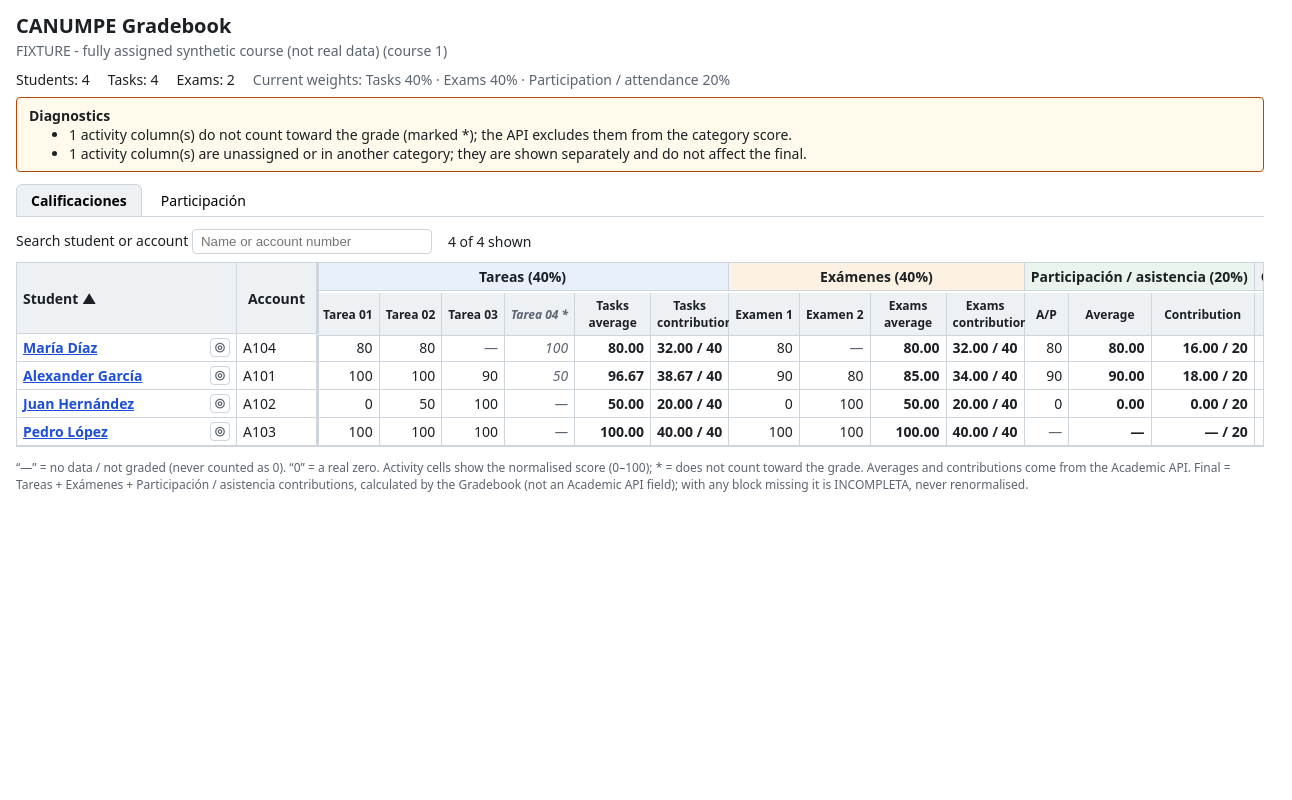
Test: Participación tab › clears the captured controls after a successful capture
Expected: the table is shown, [17, 263, 1264, 446]
Click the tab "Participación" at (203,200), box [146, 184, 261, 216]
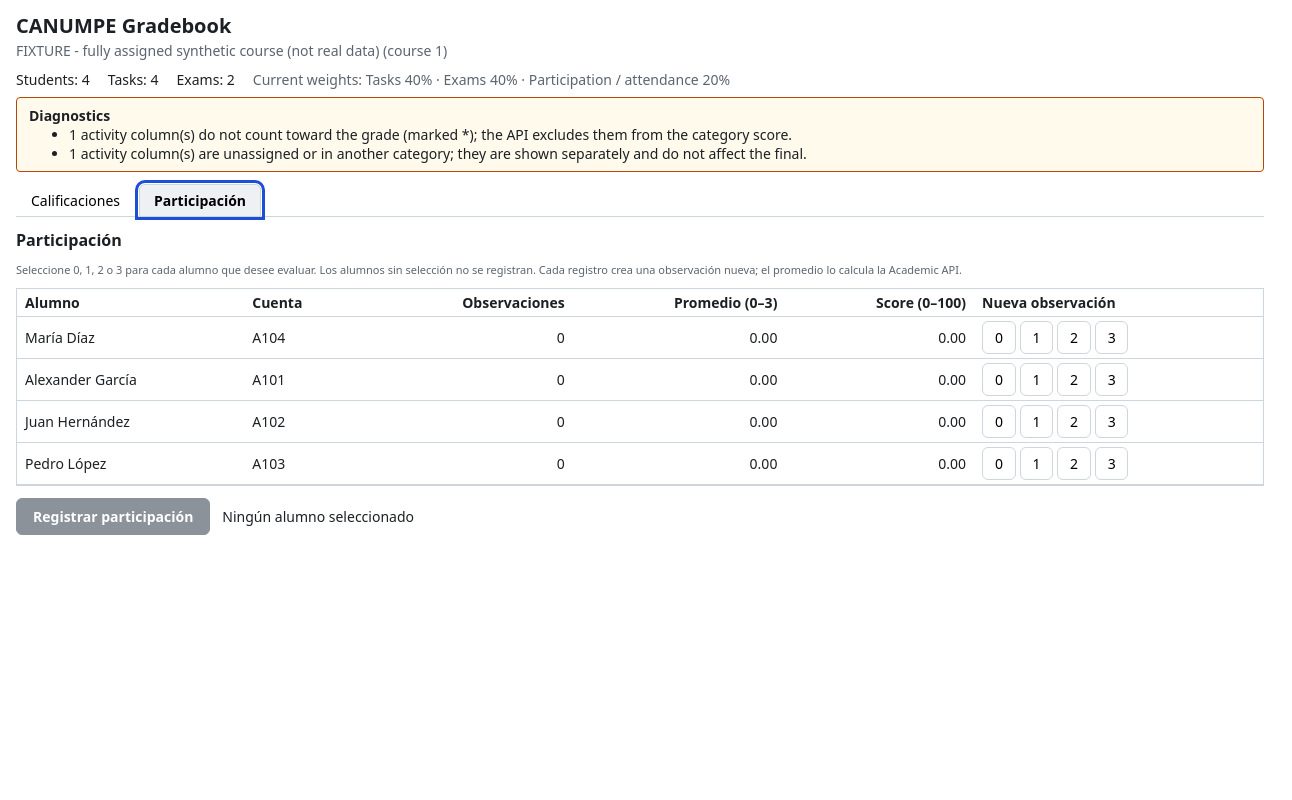
Click the radio button labelled "2" in the row of "Alexander García" at (1074,380), box [1057, 363, 1091, 396]
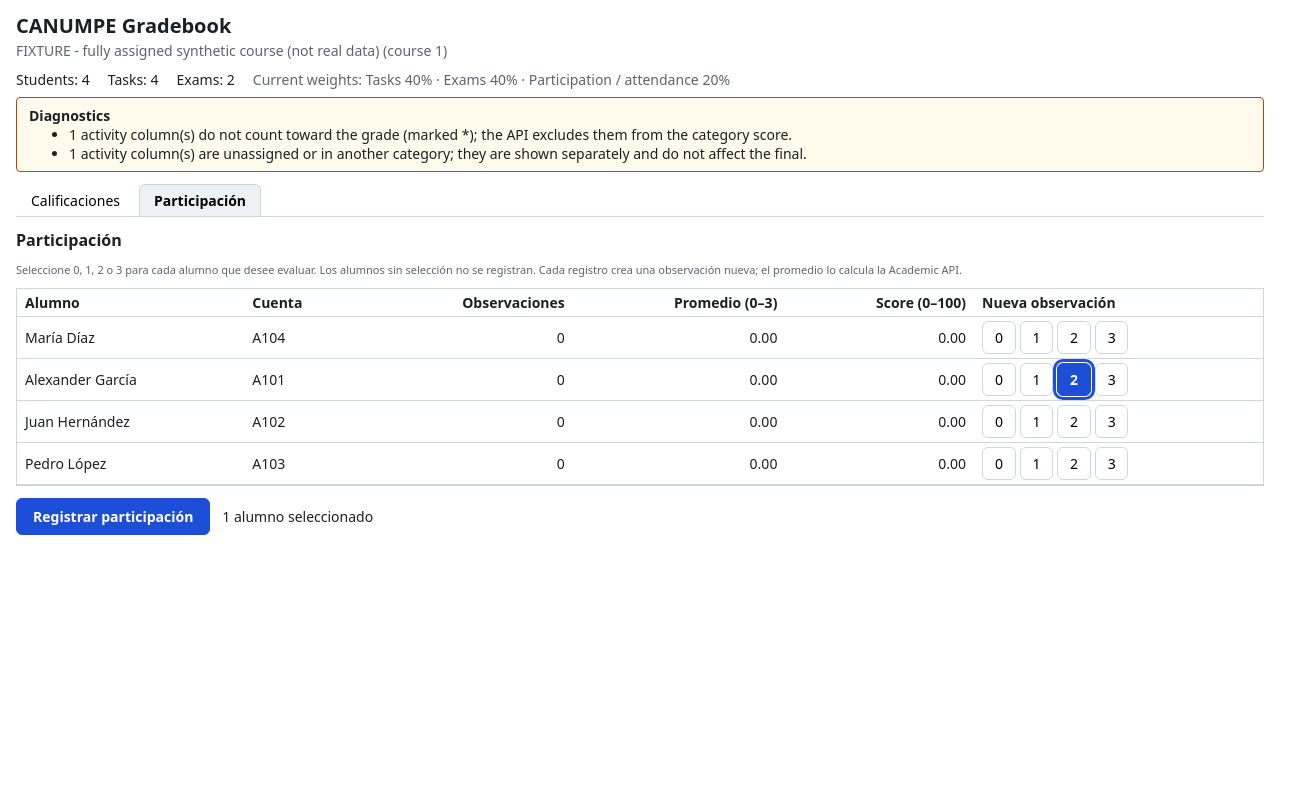
Click the button "Registrar participación" at (113,516), box [16, 498, 210, 535]
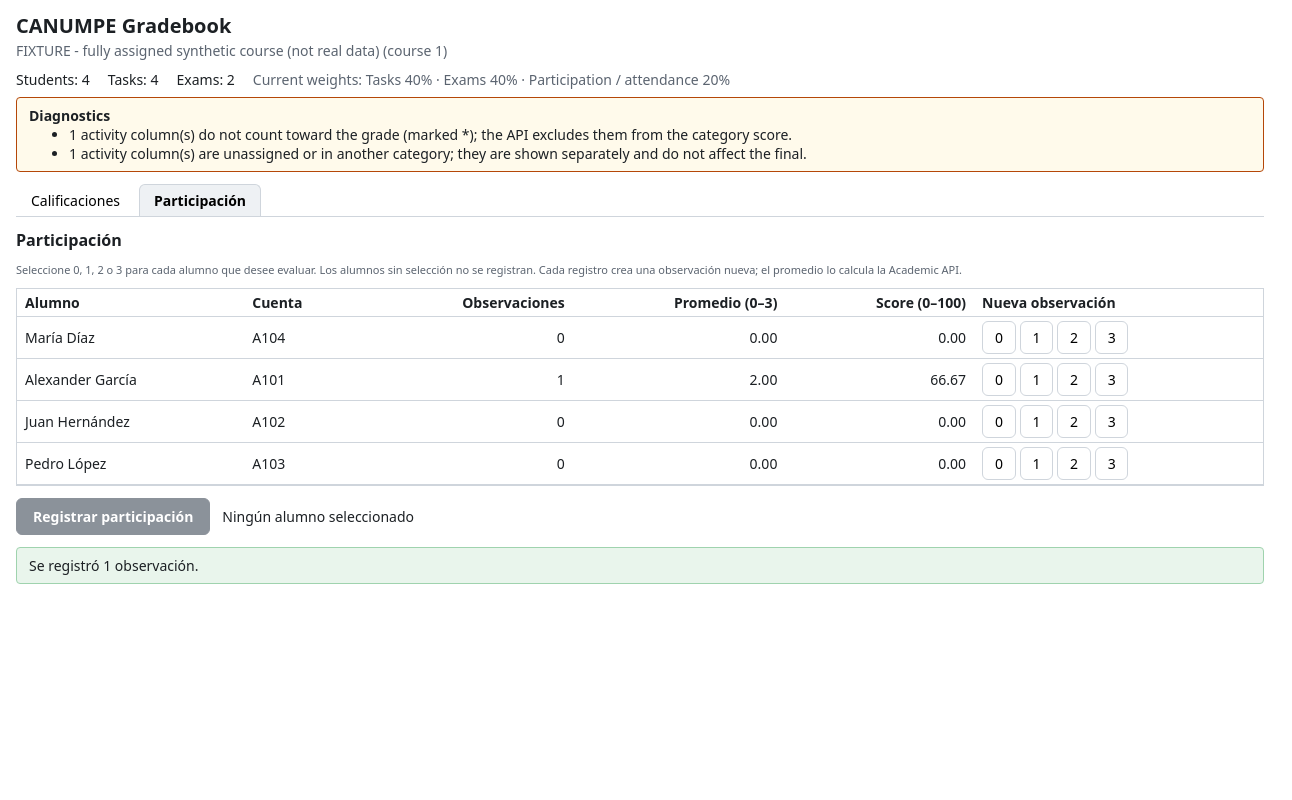
Expected: the message "Se registró 1 observación." is shown, [16, 547, 1264, 584]
Expected: the button "Registrar participación" is disabled, [16, 498, 210, 535]
